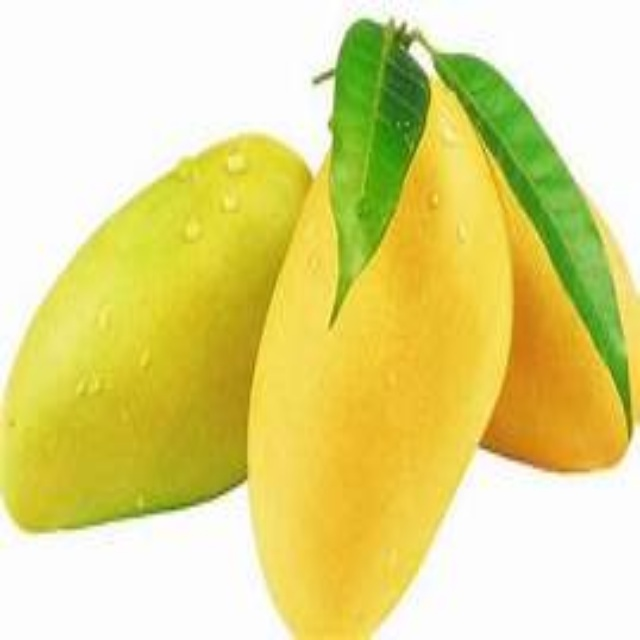mango: (251, 84, 521, 639), (0, 125, 316, 533), (457, 145, 639, 475)
